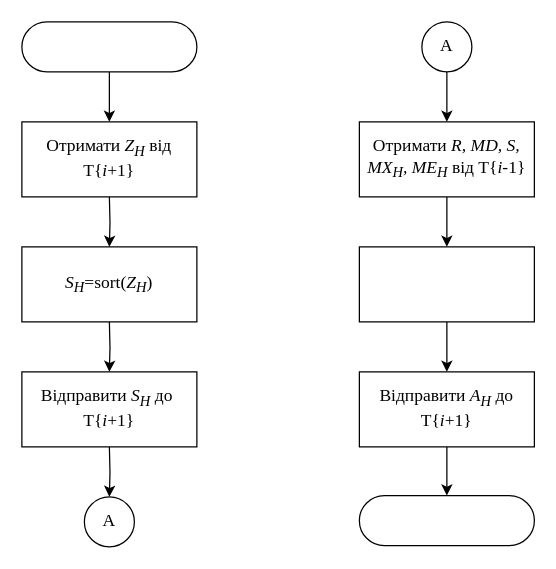
The diagram is 556 pixels wide and 569 high, and some of its shapes have lost their labels. The centre of each missing label's shape, as x and y in pixels:
Кінець: (x=446, y=520)
Обчислити A H =S*MX H + S[1]*R*(MD*ME H ): (x=446, y=284)
Початок: (x=109, y=46)
